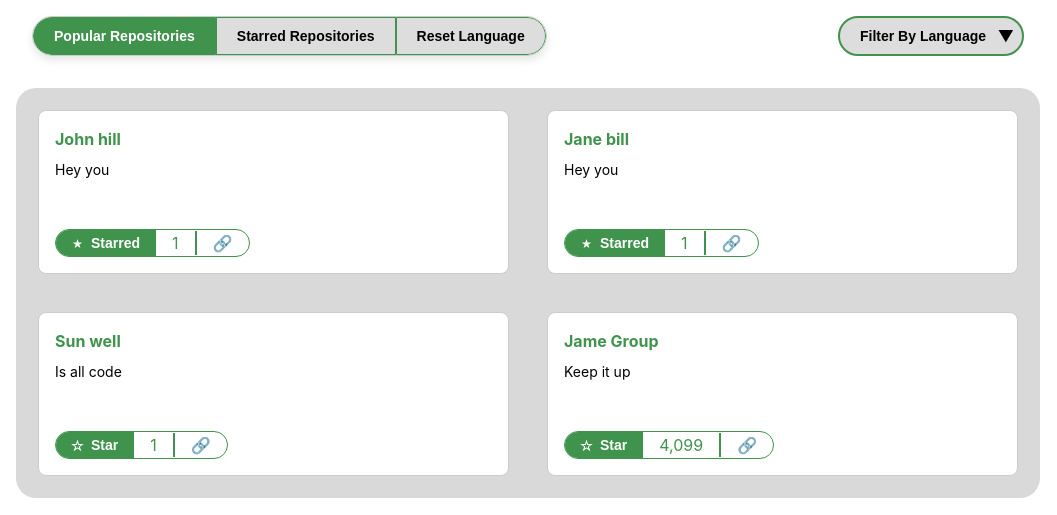
Test: Repositories Component › should filter by language and select starred repositories without data
Click the tab "Starred Repositories".
click(306, 36)  # box [216, 17, 396, 55]
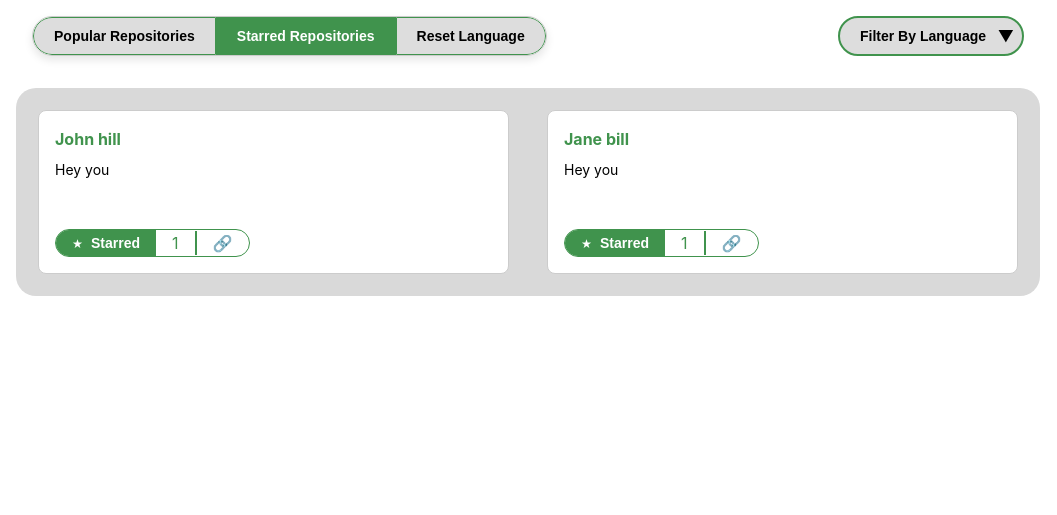
Select "ts" in the dropdown at (931, 36), box [838, 16, 1024, 56]
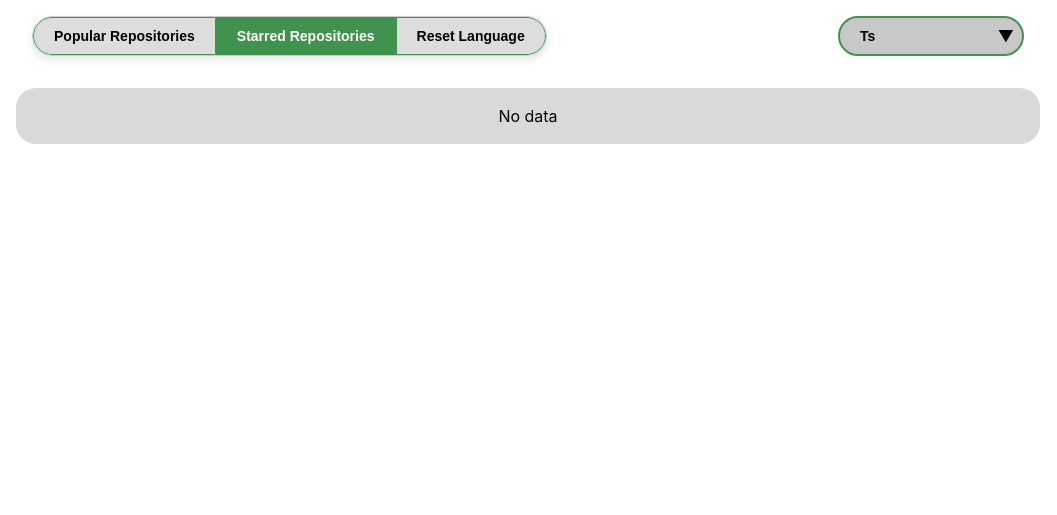
Expected: the text "No data" is shown, [498, 106, 558, 126]
